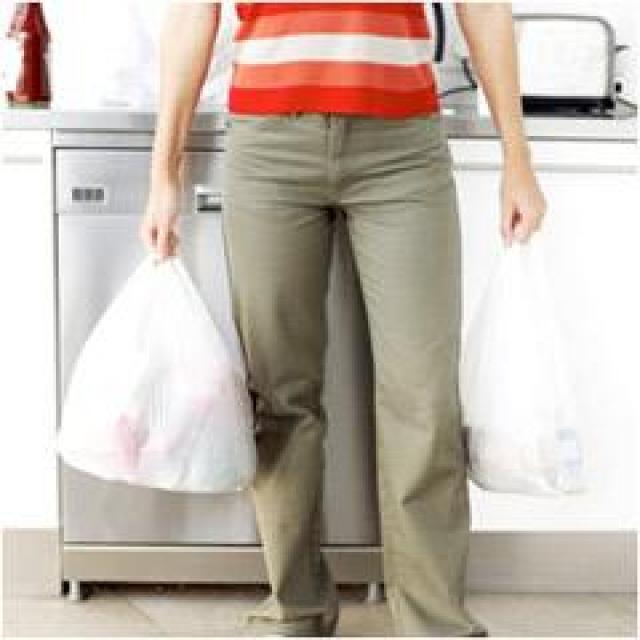plastic_bag: (69, 196, 277, 516), (420, 197, 614, 517)
